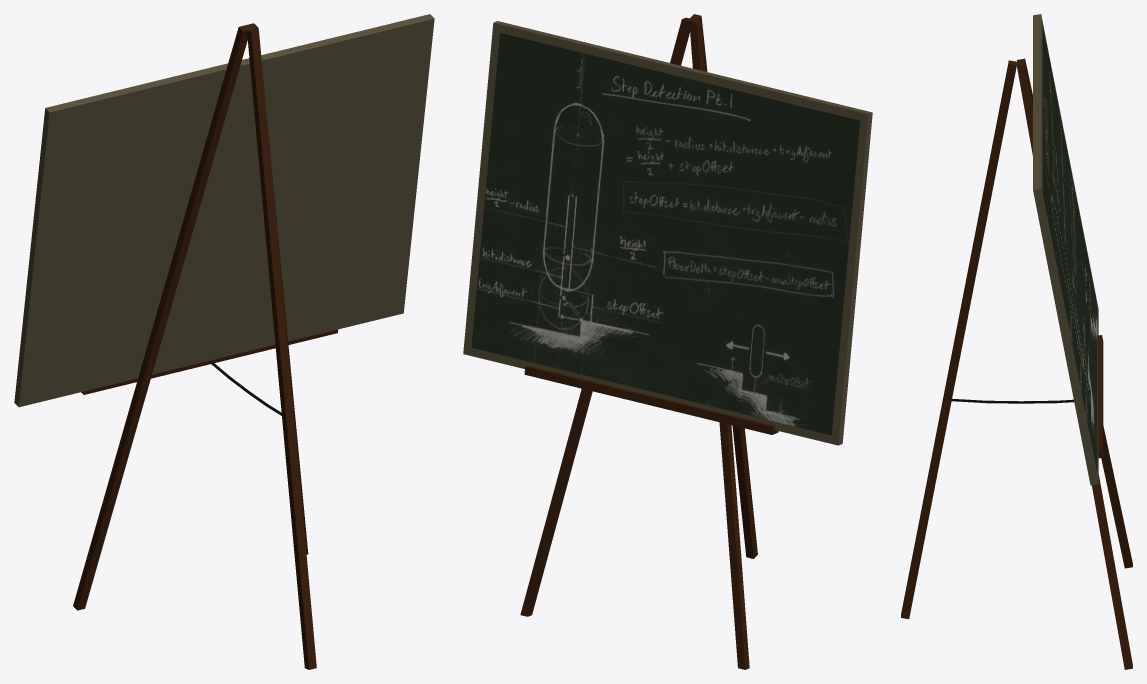
Rendered from Easyl.fbx.
The picture shows the model from 3 angles, left to right: view 1: azimuth 30°, elevation 25°; view 2: azimuth 150°, elevation 25°; view 3: azimuth 270°, elevation 25°; orthographic projection. The views are drawn at different scales.
Visible parts, largest first — view 1: Cube; view 2: Cube; view 3: Cube.
Boxes of the visible parts, bbox=[...] form: Cube: bbox=[14, 14, 434, 669]; Cube: bbox=[463, 14, 872, 669]; Cube: bbox=[901, 14, 1132, 669].
Size of the model in its own units: 156 by 231 by 87.55.
